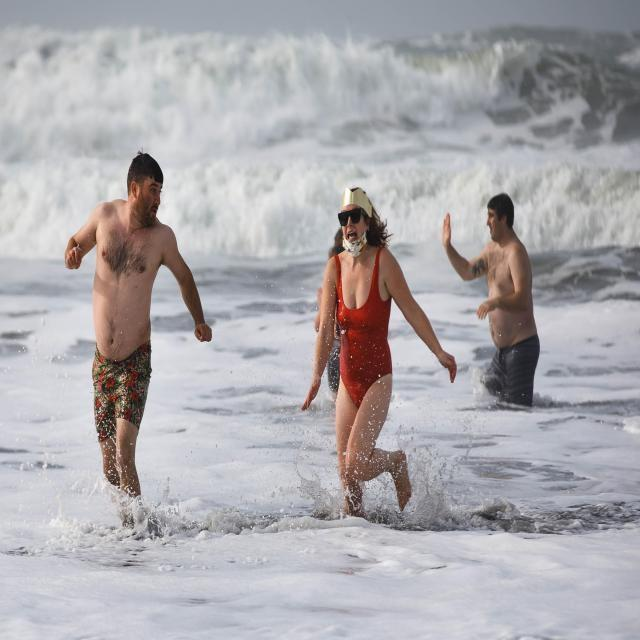hairnet: (344, 206, 368, 253)
